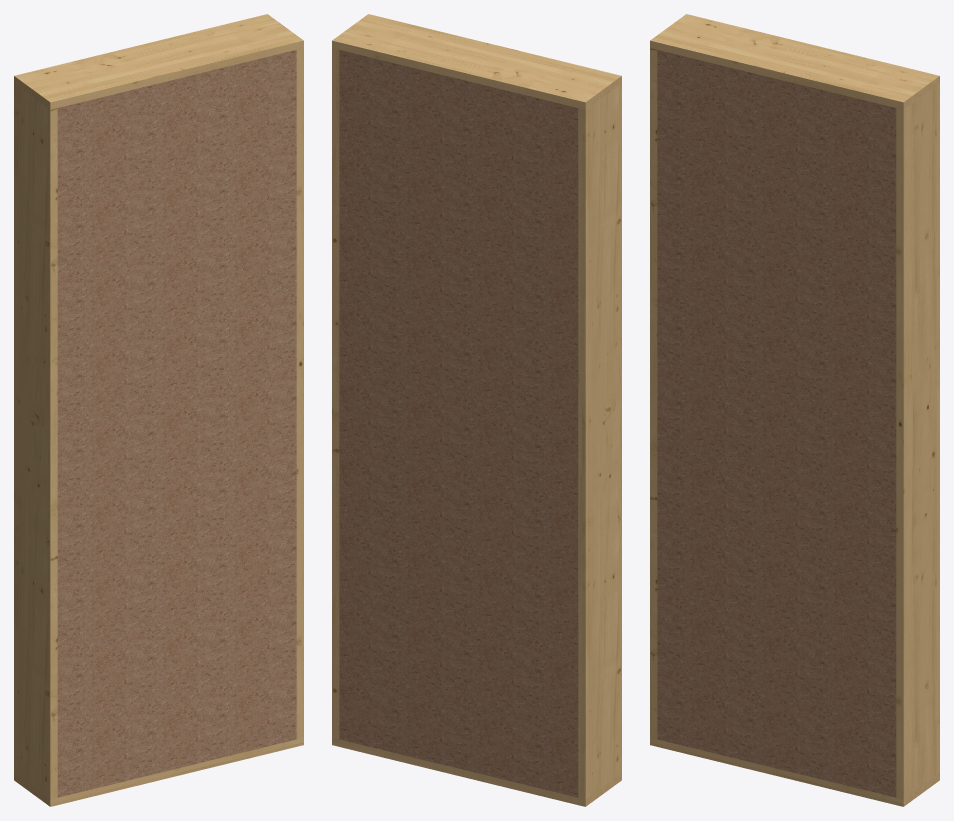
The model's file is WallModule.glb.
The picture shows the model from 3 angles, left to right: view 1: azimuth 30°, elevation 25°; view 2: azimuth 150°, elevation 25°; view 3: azimuth 330°, elevation 25°; orthographic projection.
Parts seen in each view (by area): view 1: wall_module_cube, wall_module_frame; view 2: wall_module_cube, wall_module_frame; view 3: wall_module_cube, wall_module_frame.
Part boxes in pixels (bbox=[...]): wall_module_cube: bbox=[57, 50, 296, 797]; wall_module_frame: bbox=[14, 14, 303, 806]; wall_module_cube: bbox=[339, 50, 578, 797]; wall_module_frame: bbox=[332, 14, 621, 806]; wall_module_cube: bbox=[657, 50, 896, 797]; wall_module_frame: bbox=[650, 14, 939, 806].
Size of the model in its own units: 1.21 by 3.21 by 0.3.
2 materials, 2 textured.
